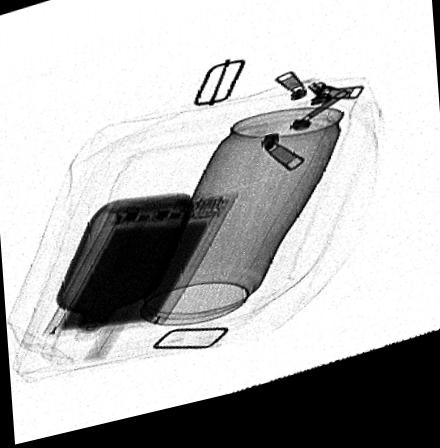Powerbank: (41, 203, 239, 337)
